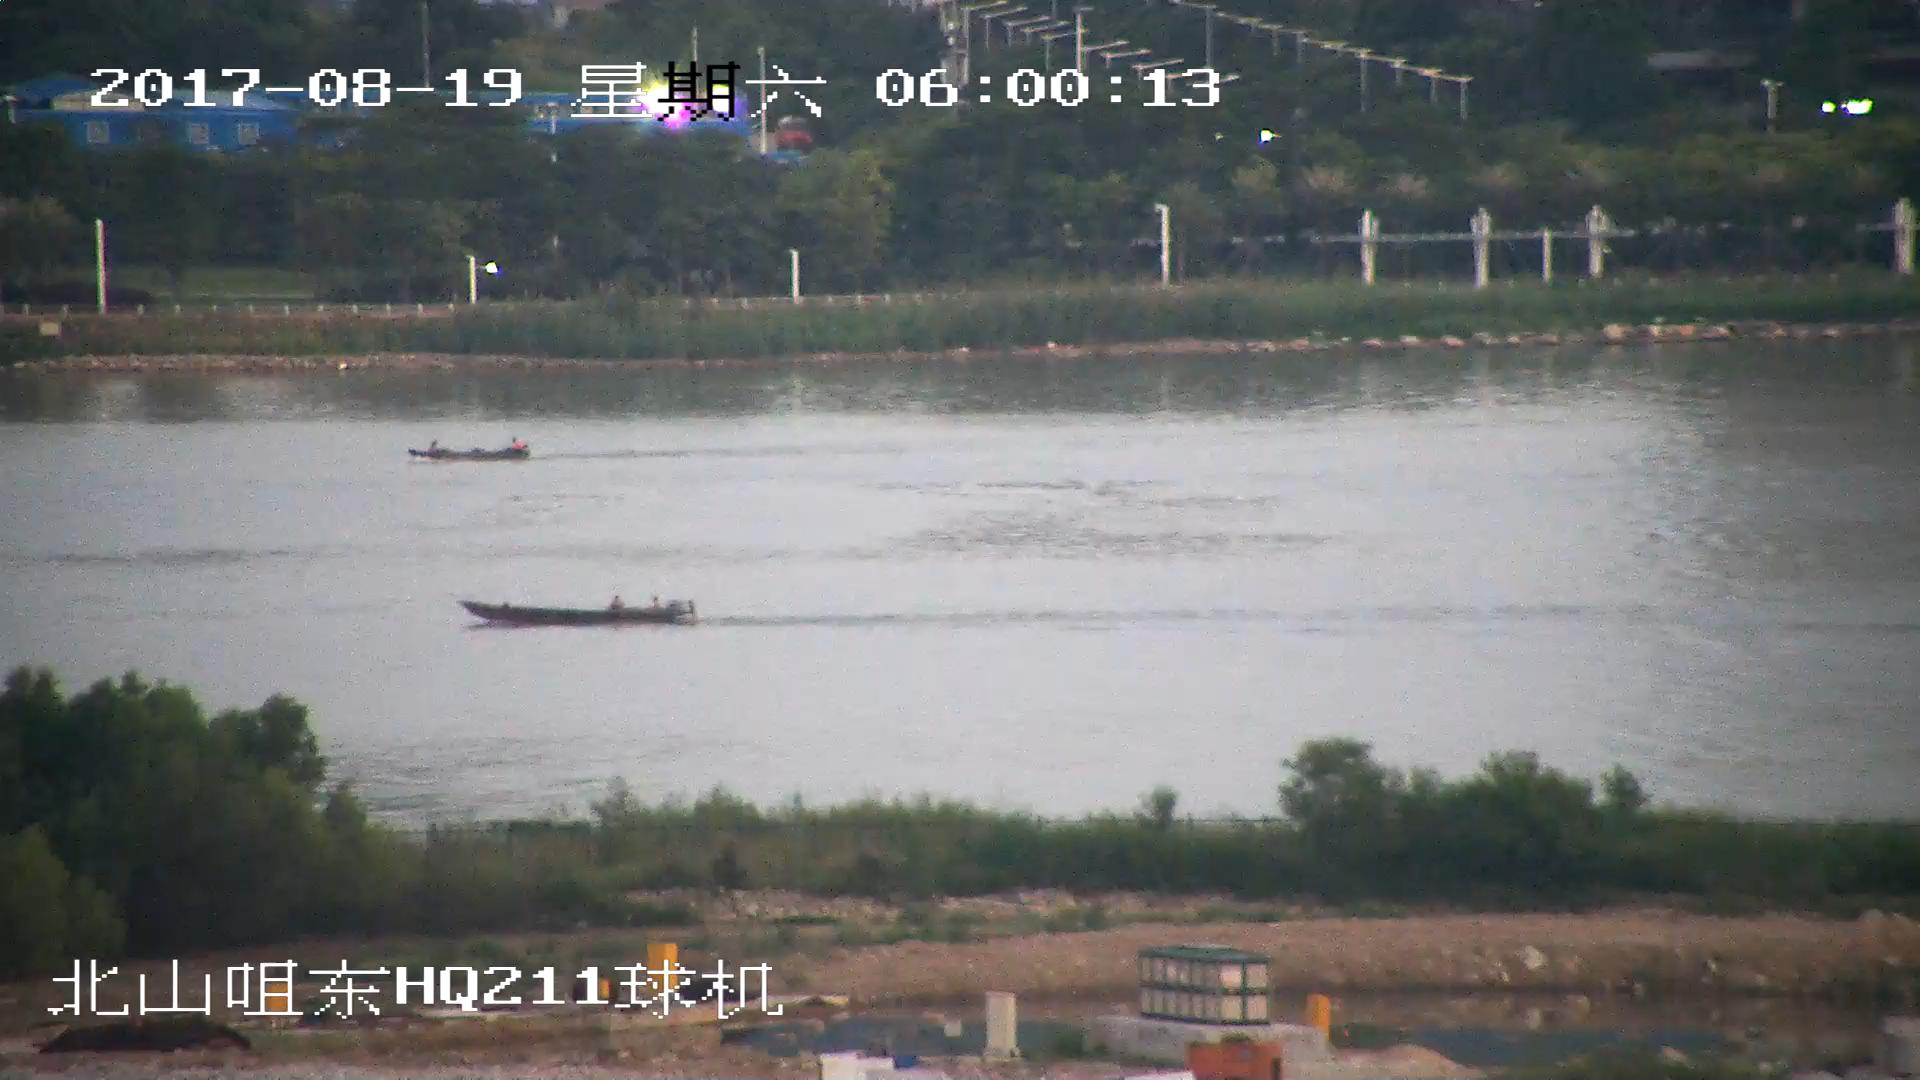fishing boat: (463, 590, 700, 626), (404, 438, 531, 465)
